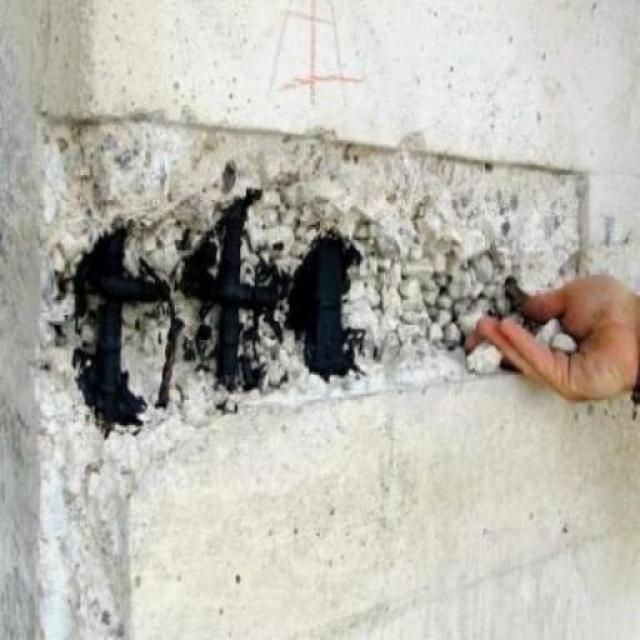D0w0: (31, 108, 588, 639)
